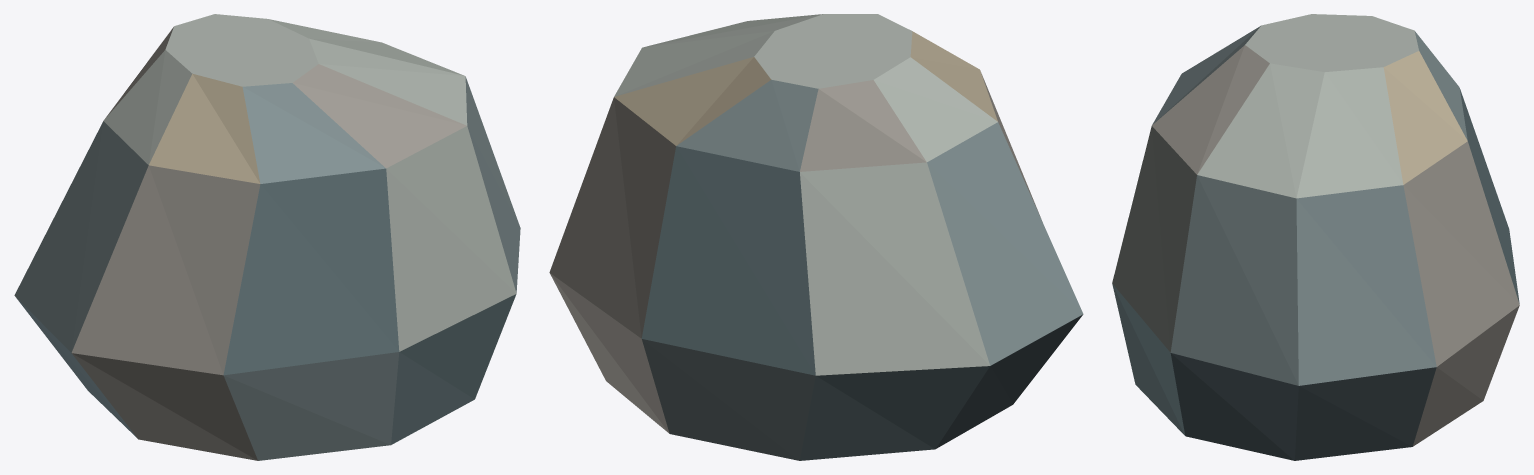
Rendered from Rock_01.obj.
3 renders of one model, left to right at view 1: azimuth 30°, elevation 25°; view 2: azimuth 150°, elevation 25°; view 3: azimuth 270°, elevation 25°, orthographic. The views are drawn at different scales.
Visible parts, largest first — view 1: Rock_01; view 2: Rock_01; view 3: Rock_01.
Part boxes in pixels (<box>): Rock_01: <box>14,14,520,460</box>; Rock_01: <box>549,14,1083,460</box>; Rock_01: <box>1112,14,1519,460</box>.
Bounding box in the file's own units: 2.22 × 1.51 × 1.74.
Materials: 1 (1 with a texture image).
